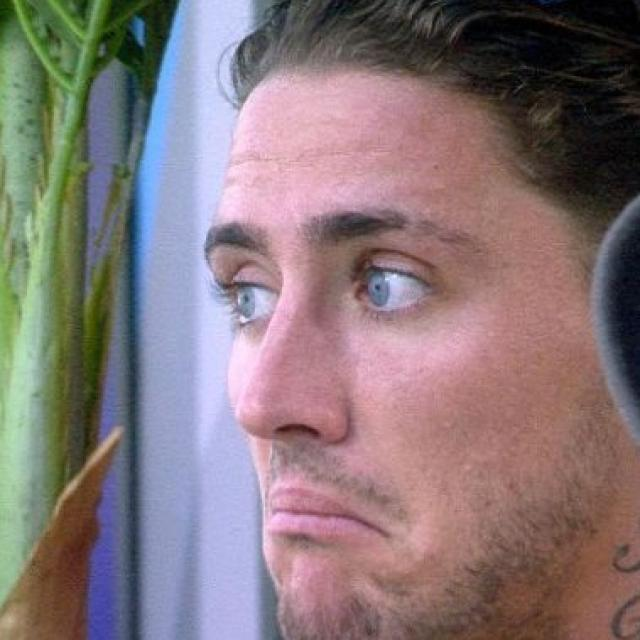Depress: (206, 69, 625, 638)
